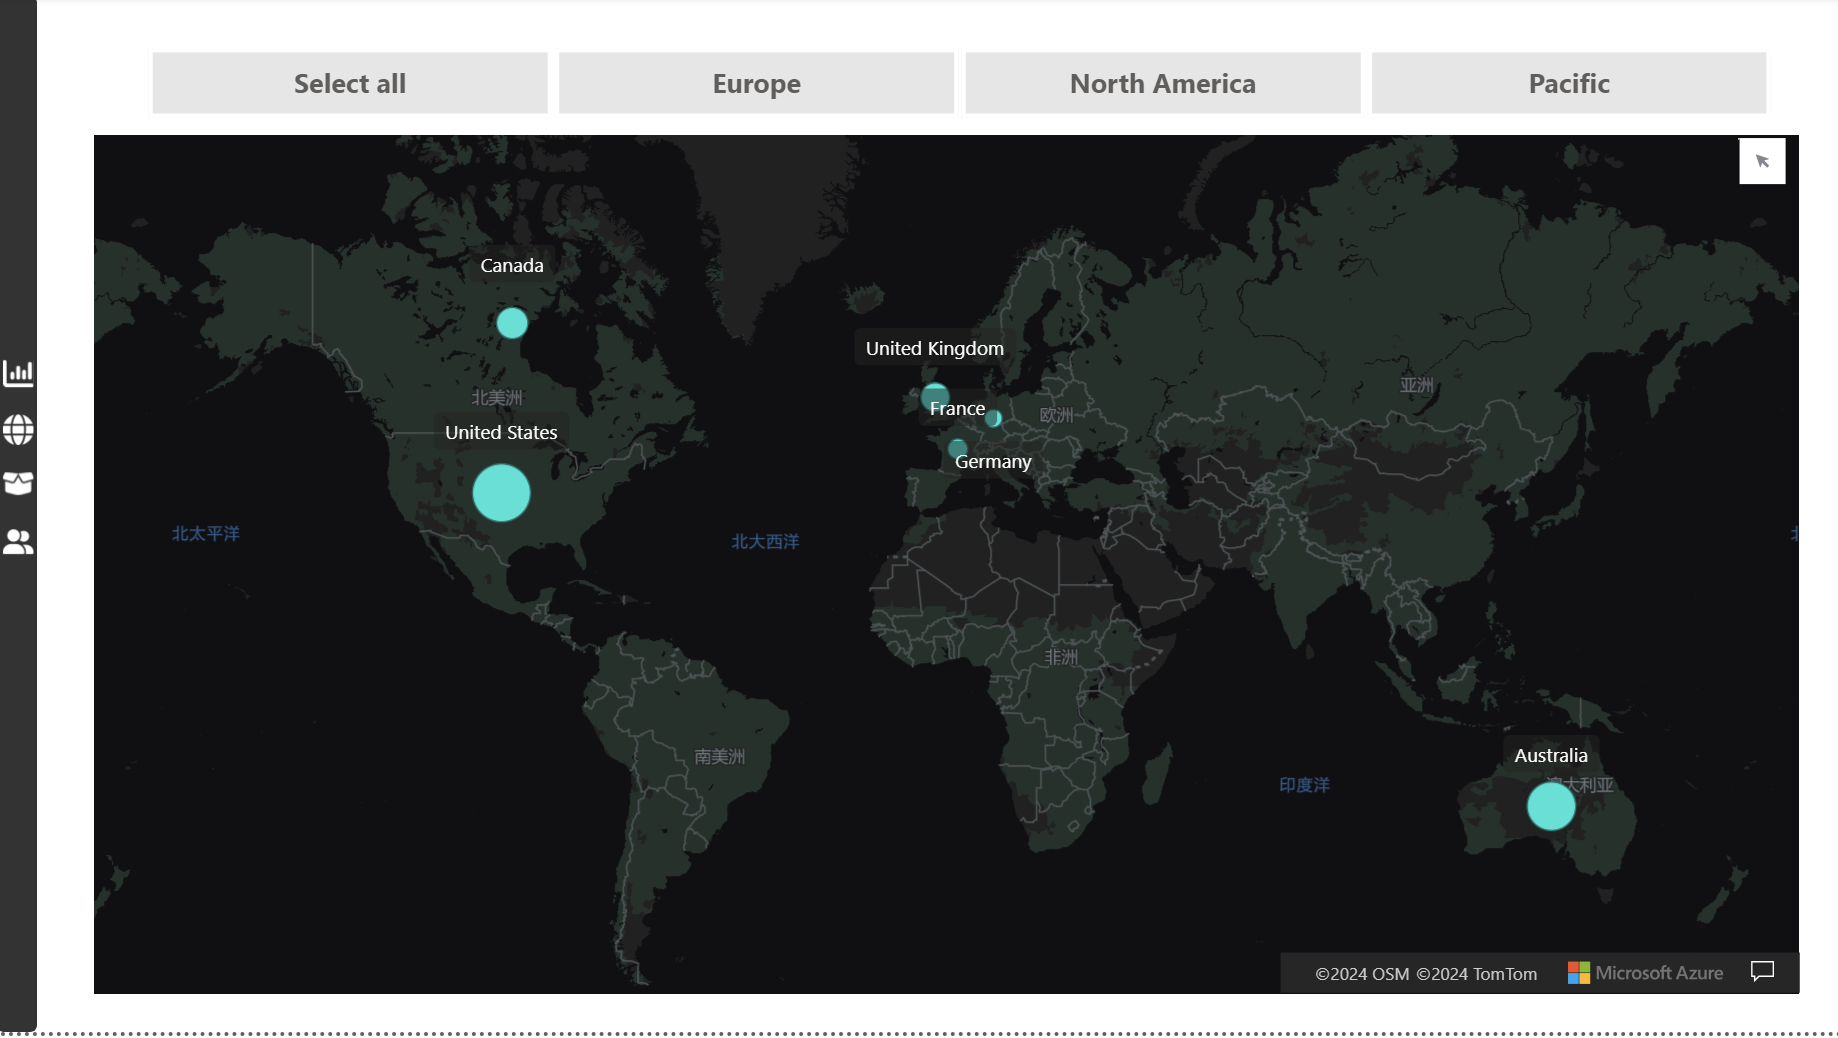

The page's visual inventory and layout, read from the dashboard file:
{"tool":"powerbi","page":{"name":"Map","canvas":[1280,720],"ordinal":1},"visuals":[{"type":"shape","box":[0,0,27.8,720],"z":0},{"type":"actionButton","box":[0,243.6,29.5,38.5],"z":0,"group":"g1"},{"type":"actionButton","box":[0,282.1,29.5,38.5],"z":1000,"group":"g1"},{"type":"azureMap","fields":{"Category":["Territory Lookup.Country"],"Size":["Measure Table.Total Orders"]},"box":[62.3,91.1,1195.3,607.2],"z":1000},{"type":"slicer","fields":{"Values":["Territory Lookup.Continent"]},"box":[79.9,28.8,1177.7,62.3],"z":2000},{"type":"actionButton","box":[0,320.5,29.5,38.5],"z":2000,"group":"g1"},{"type":"actionButton","box":[0,360.3,29.5,38.5],"z":3000,"group":"g1"},{"type":"group","id":"g1","title":"Navigation buttons","box":[0,243.6,29.5,155.1],"z":3000}]}

Visuals, with their boxes in screenshot pixels (x1, y1, x2, y2):
shape: <region>0, 0, 35, 1020</region>
actionButton: <region>0, 345, 37, 400</region>
actionButton: <region>0, 400, 37, 454</region>
azureMap - Territory Lookup.Country x Measure Table.Total Orders: <region>83, 129, 1776, 989</region>
slicer - Territory Lookup.Continent: <region>108, 41, 1776, 129</region>
actionButton: <region>0, 454, 37, 509</region>
actionButton: <region>0, 510, 37, 565</region>
"Navigation buttons" group: <region>0, 345, 37, 565</region>
